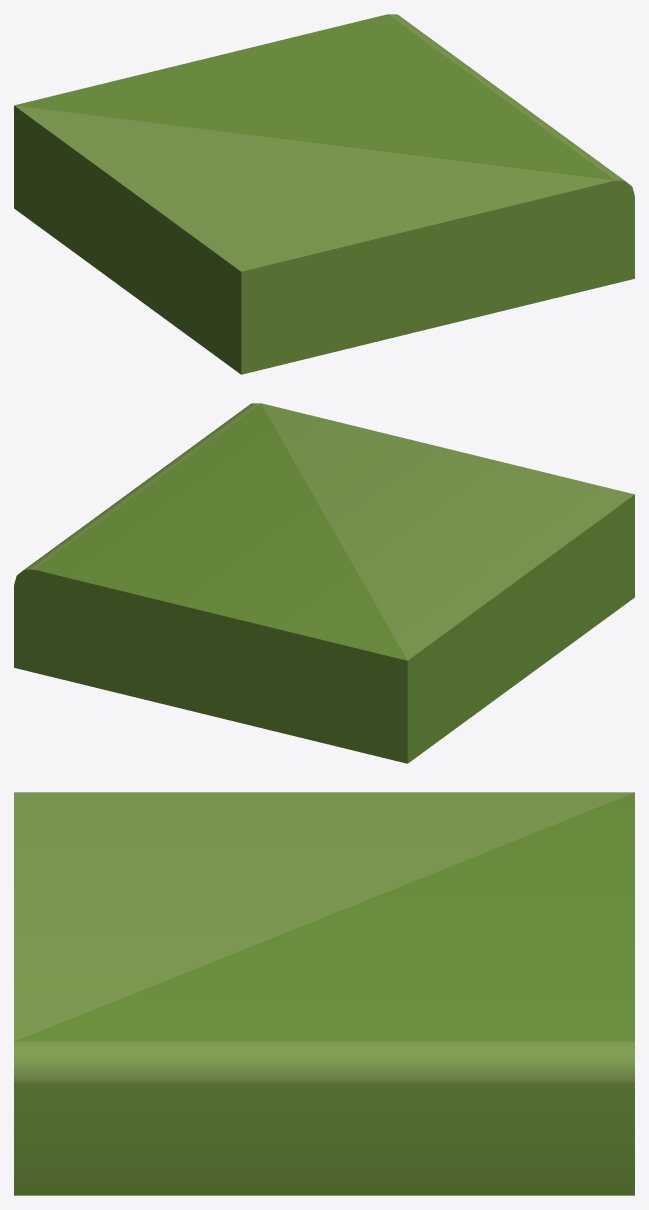
File: itch_tiny_pretty_park_floor_grass_sliced_f.glb
The picture shows the model from 3 angles, top to bottom: view 1: azimuth 30°, elevation 25°; view 2: azimuth 150°, elevation 25°; view 3: azimuth 270°, elevation 25°; orthographic projection. The views are drawn at different scales.
Visible parts, largest first — view 1: floor_grass_sliced_F; view 2: floor_grass_sliced_F; view 3: floor_grass_sliced_F.
Boxes of the visible parts, bbox=[...] form: floor_grass_sliced_F: bbox=[14, 14, 634, 374]; floor_grass_sliced_F: bbox=[14, 403, 634, 763]; floor_grass_sliced_F: bbox=[14, 792, 634, 1195].
Bounding box in the file's own units: 1.52 × 0.38 × 1.52.
